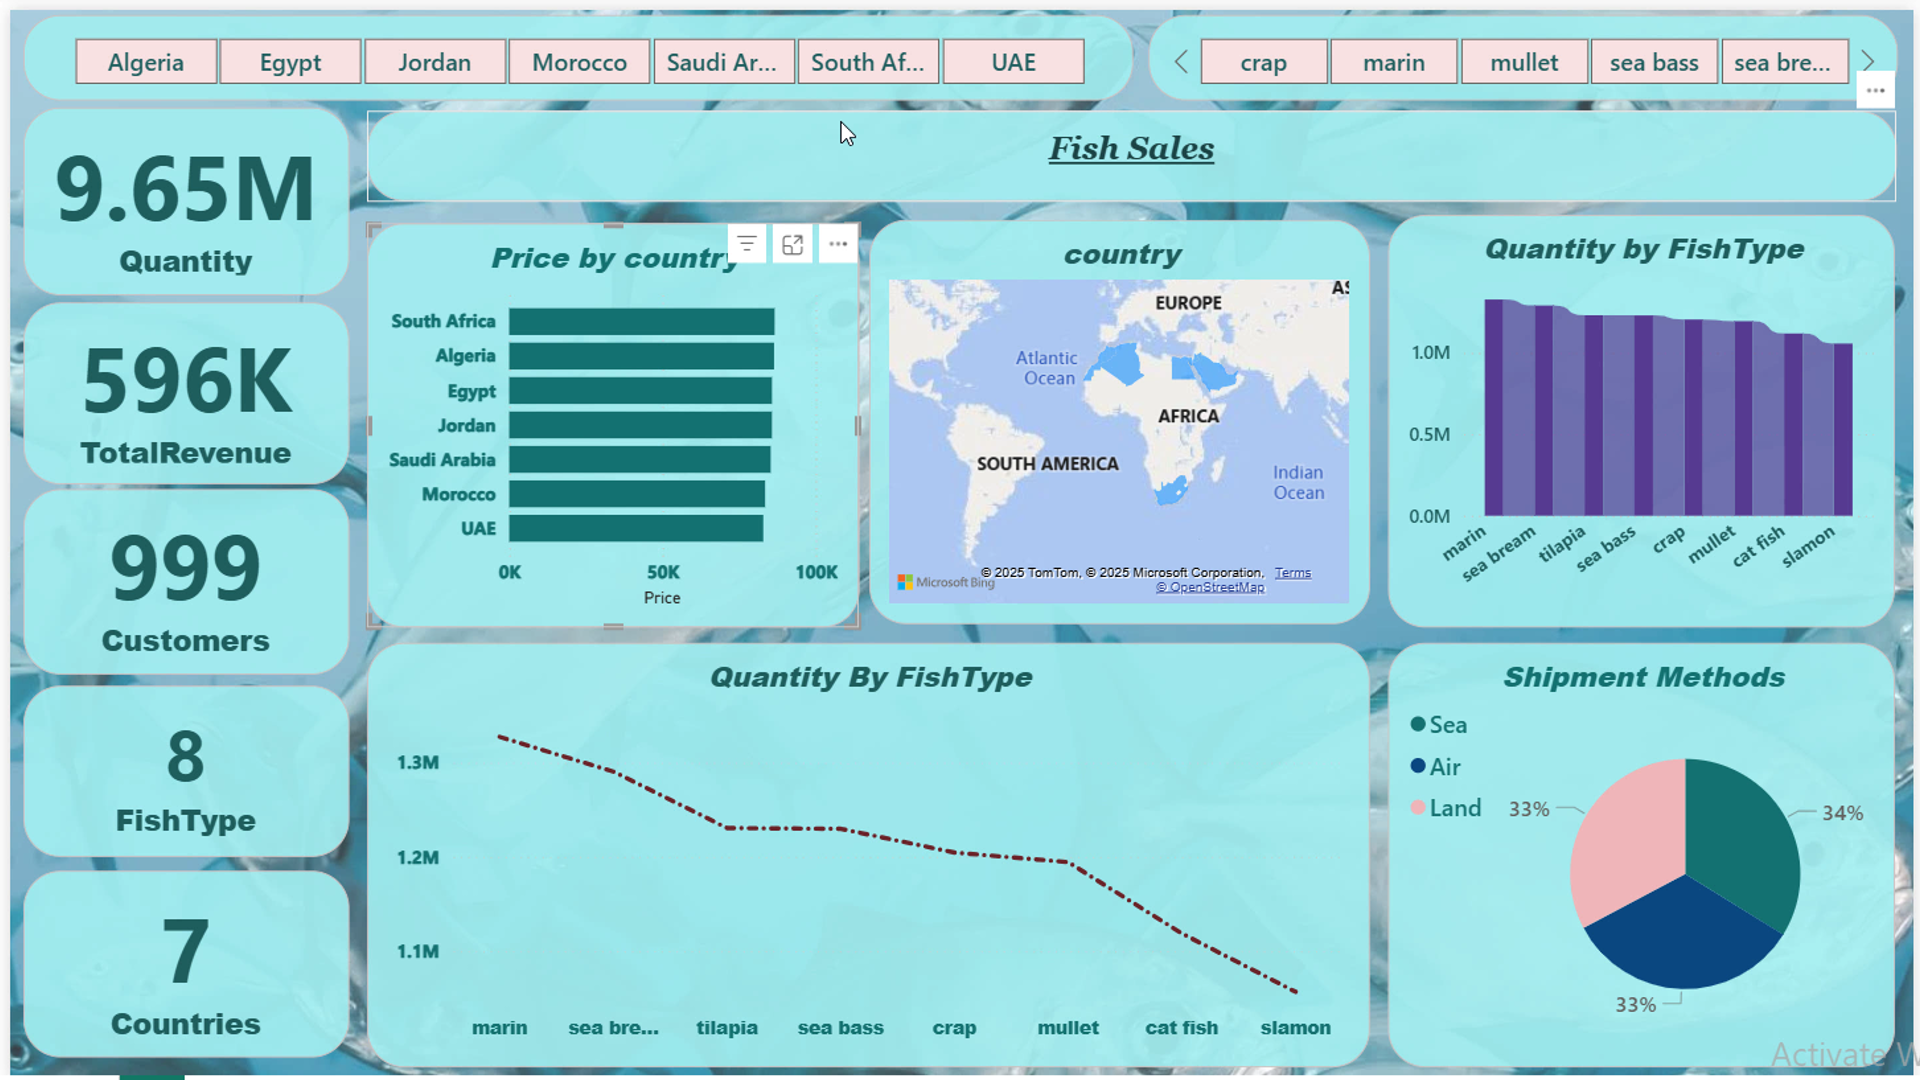

The dashboard page shown, as its layout file describes it:
{"tool":"powerbi","page":{"name":"Page 1","canvas":[1280,720],"ordinal":0},"visuals":[{"type":"pieChart","title":"Shipment Methods","fields":{"Category":["FishExportsData.ShippingMethod"],"Y":["FishExportsData.% Shipments by Method"]},"box":[926.7,425.6,341.1,285.6],"z":0},{"type":"card","fields":{"Values":["Count(FishExportsData.FishType)"]},"box":[8.9,454.4,218.9,115.6],"z":1000},{"type":"card","fields":{"Values":["Count(FishExportsData.country)"]},"box":[8.9,578.9,218.9,125.6],"z":2000},{"type":"card","fields":{"Values":["FishExportsData.TotalQuantityKG"]},"box":[8.9,65.6,218.9,126.7],"z":3000},{"type":"lineChart","title":"Quantity By FishType","fields":{"Category":["FishExportsData.FishType"],"Y":["Sum(FishExportsData.QuantityKG)"]},"box":[240,425.6,674.4,285.6],"z":4000},{"type":"barChart","fields":{"Y":["Sum(FishExportsData.Price)"],"Category":["FishExportsData.country"]},"box":[240,143.3,331.1,272.2],"z":5000},{"type":"card","fields":{"Values":["FishExportsData.NumOfCustomers"]},"box":[8.9,322.2,218.9,124.4],"z":6000},{"type":"card","fields":{"Values":["FishExportsData.TotalRevenue"]},"box":[8.9,196.7,218.9,122.2],"z":7000},{"type":"slicer","fields":{"Values":["FishExportsData.country"]},"box":[9,3.4,746.4,57.6],"z":8000},{"type":"filledMap","fields":{"Category":["FishExportsData.country"]},"box":[577.8,141.1,336.7,272.2],"z":9000},{"type":"ribbonChart","title":"Quantity by FishType","fields":{"Category":["FishExportsData.FishType"],"Y":["Sum(FishExportsData.QuantityKG)"]},"box":[926.7,137.8,341.1,277.8],"z":10000},{"type":"slicer","fields":{"Values":["FishExportsData.FishType"]},"box":[765.6,3.4,503.6,57.6],"z":11000},{"type":"textbox","box":[240,67.8,1028.9,61.1],"z":12000}]}

Visuals, with their boxes in screenshot pixels (x1, y1, x2, y2), scaled from the page's 1280x720 canvas onto the 1920x1080 screenshot:
"Shipment Methods" pieChart: (x1=1390, y1=638, x2=1902, y2=1067)
card - Count(FishExportsData.FishType): (x1=13, y1=682, x2=342, y2=855)
card - Count(FishExportsData.country): (x1=13, y1=868, x2=342, y2=1057)
card - FishExportsData.TotalQuantityKG: (x1=13, y1=98, x2=342, y2=288)
"Quantity By FishType" lineChart: (x1=360, y1=638, x2=1372, y2=1067)
barChart - Sum(FishExportsData.Price) x FishExportsData.country: (x1=360, y1=215, x2=857, y2=623)
card - FishExportsData.NumOfCustomers: (x1=13, y1=483, x2=342, y2=670)
card - FishExportsData.TotalRevenue: (x1=13, y1=295, x2=342, y2=478)
slicer - FishExportsData.country: (x1=14, y1=5, x2=1133, y2=92)
filledMap - FishExportsData.country: (x1=867, y1=212, x2=1372, y2=620)
"Quantity by FishType" ribbonChart: (x1=1390, y1=207, x2=1902, y2=623)
slicer - FishExportsData.FishType: (x1=1148, y1=5, x2=1904, y2=92)
textbox: (x1=360, y1=102, x2=1903, y2=193)
